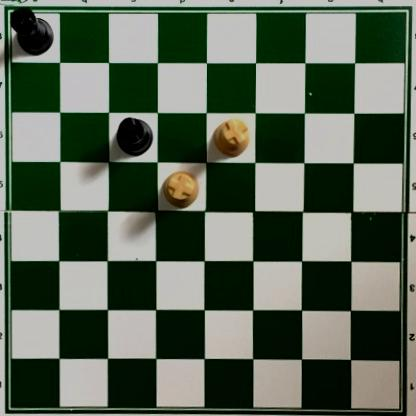black-rook: (7, 7, 56, 57), (115, 116, 155, 156)
white-rook: (211, 117, 249, 159), (160, 170, 197, 210)
